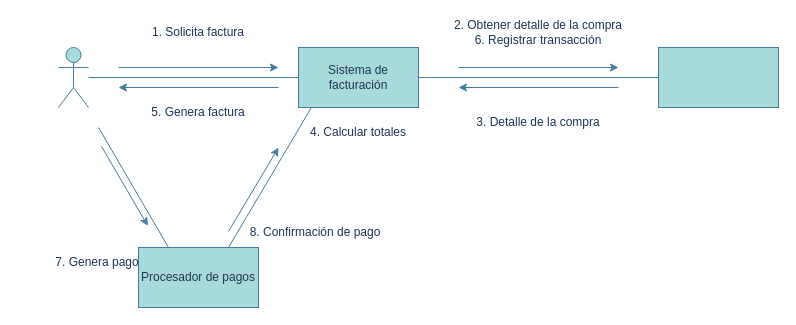
This 796x325 diagram has some shape labels left out. Here are the shapes that lost their labels. From the top down, the centre of each, then its label:
(x=73, y=77): Cliente
(x=718, y=77): Base de datos
